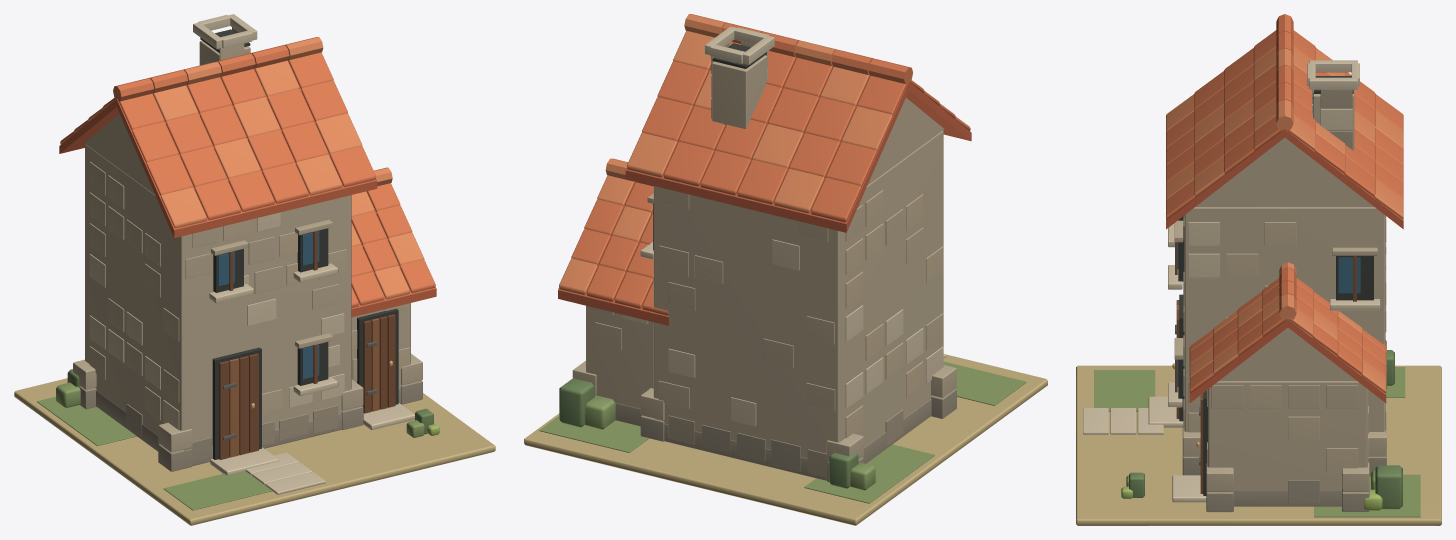
The model's file is house_annex.glb.
3 views of the same model, side by side, from view 1: azimuth 30°, elevation 25°; view 2: azimuth 150°, elevation 25°; view 3: azimuth 270°, elevation 25° (orthographic). The views are drawn at different scales.
Parts seen in each view (by area): view 1: house_annex; view 2: house_annex; view 3: house_annex.
Part boxes in pixels (x1=…): house_annex: x1=14, y1=14, x2=495, y2=525; house_annex: x1=524, y1=14, x2=1047, y2=525; house_annex: x1=1076, y1=14, x2=1441, y2=525.
Bounding box in the file's own units: 2.4 × 2.77 × 2.4.
